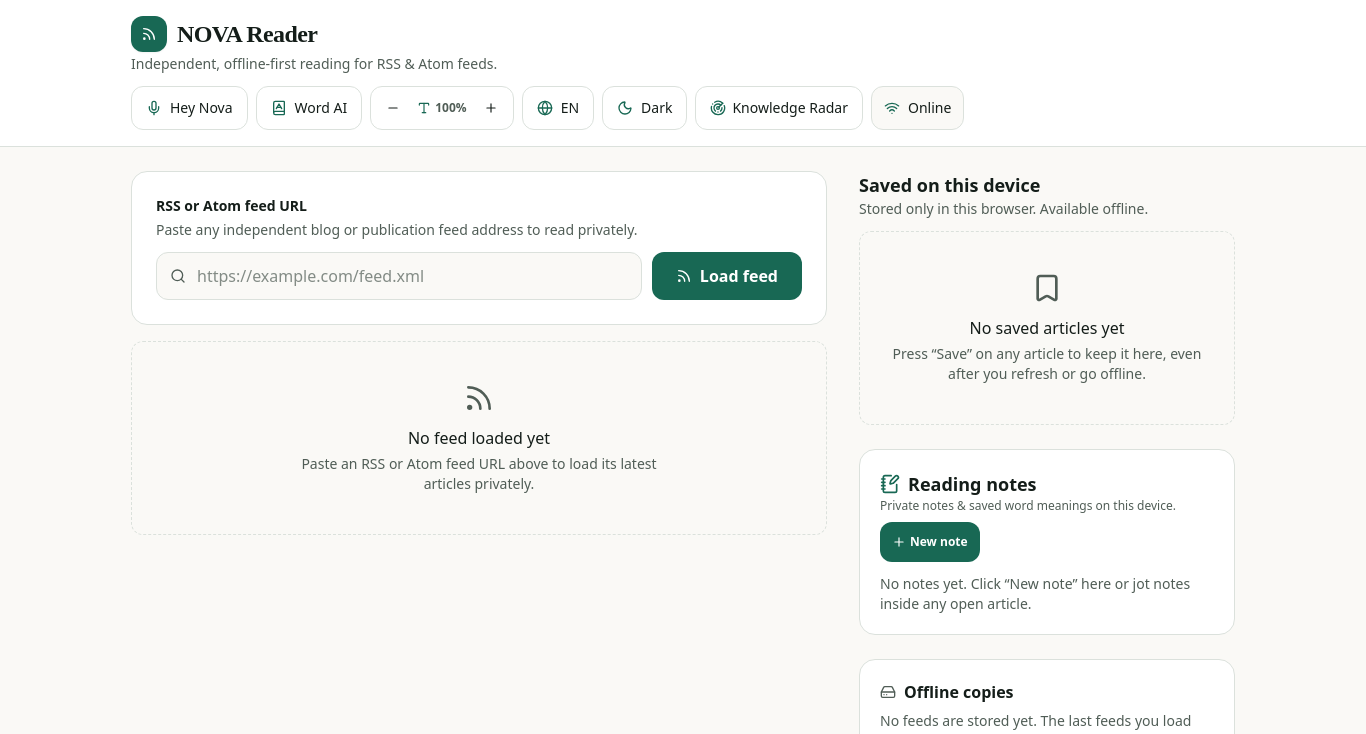
HomePage – loading and success › shows the feed title, description and articles
Type "https://mock.example/feed.xml" into the field labelled "RSS or Atom feed URL" at {"x": 399, "y": 276}, box [156, 252, 642, 300]
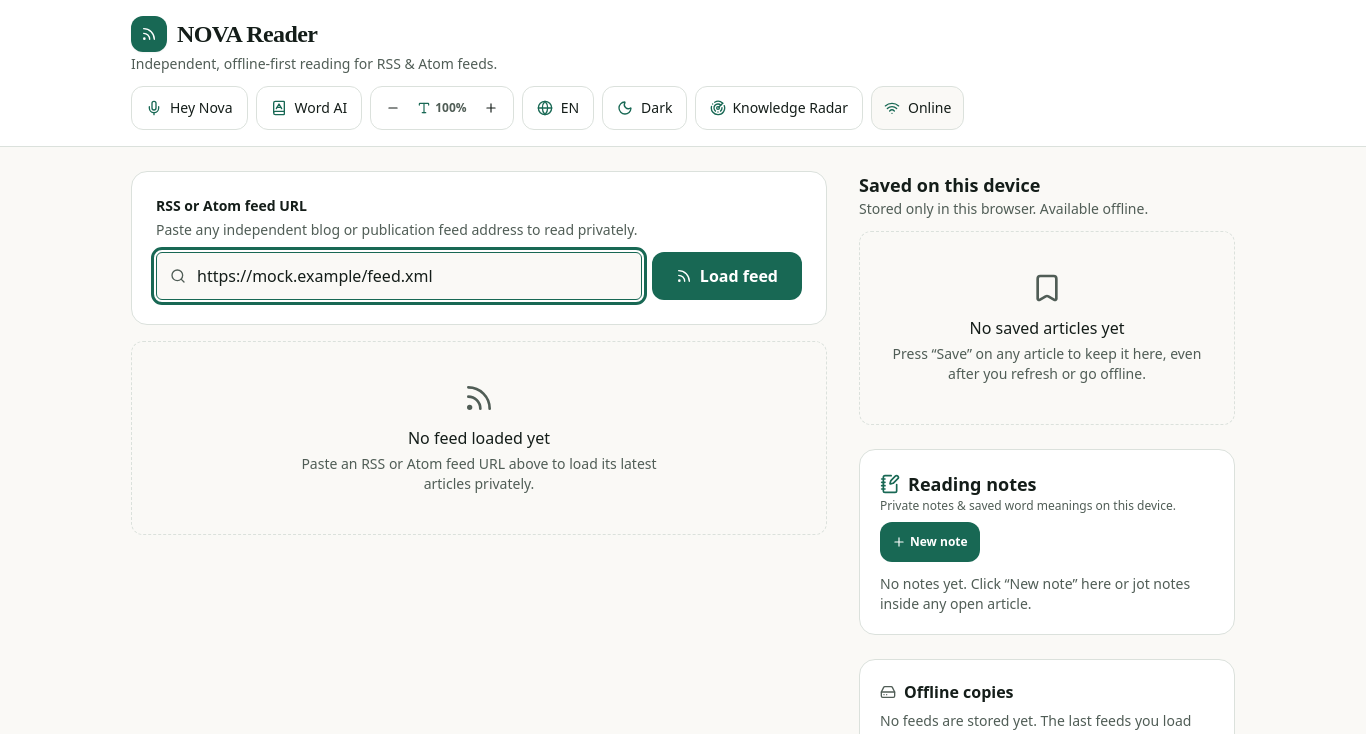
Click the button "Load feed" at {"x": 727, "y": 276}, box [652, 252, 802, 300]
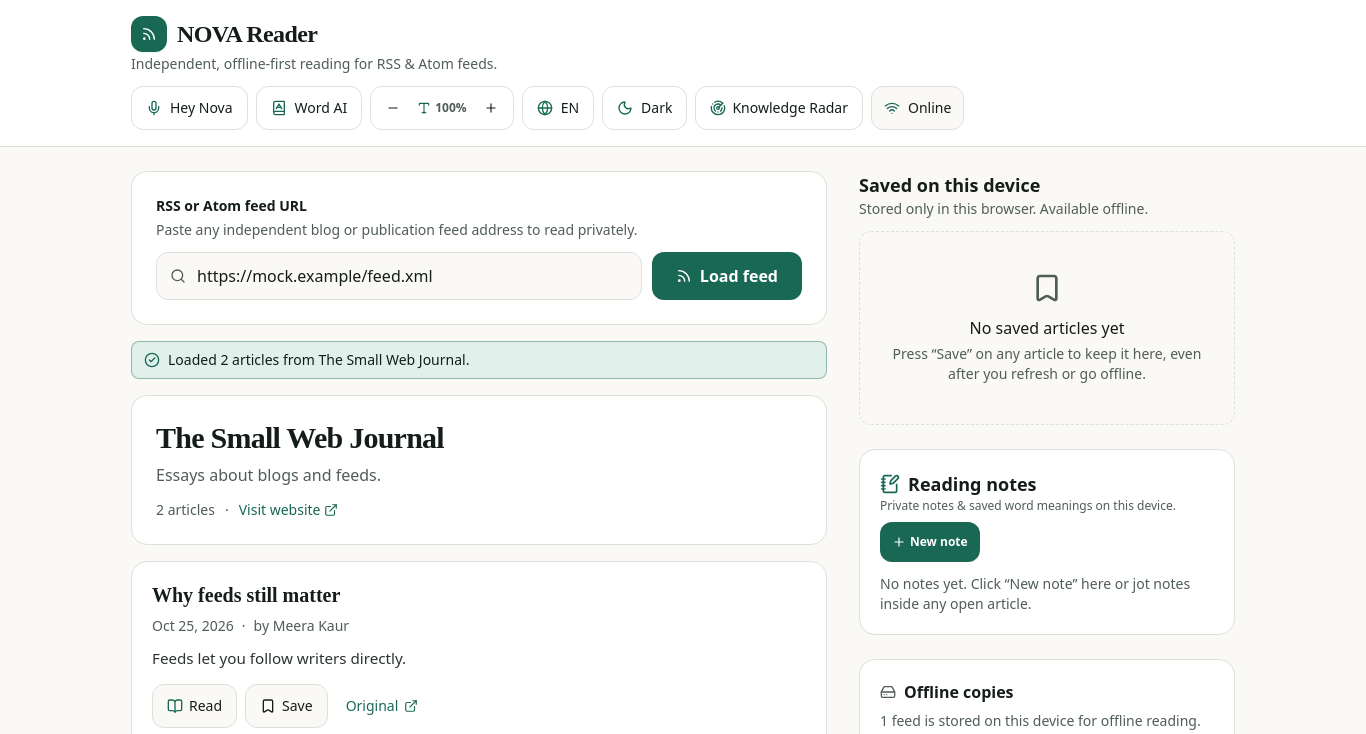
Expected: the heading "The Small Web Journal" is shown, [156, 421, 444, 454]
Expected: the text "Essays about blogs and feeds." is shown, [156, 464, 381, 486]
Expected: the text "Loaded 2 articles from The Small Web Journal." is shown, [168, 350, 469, 370]
